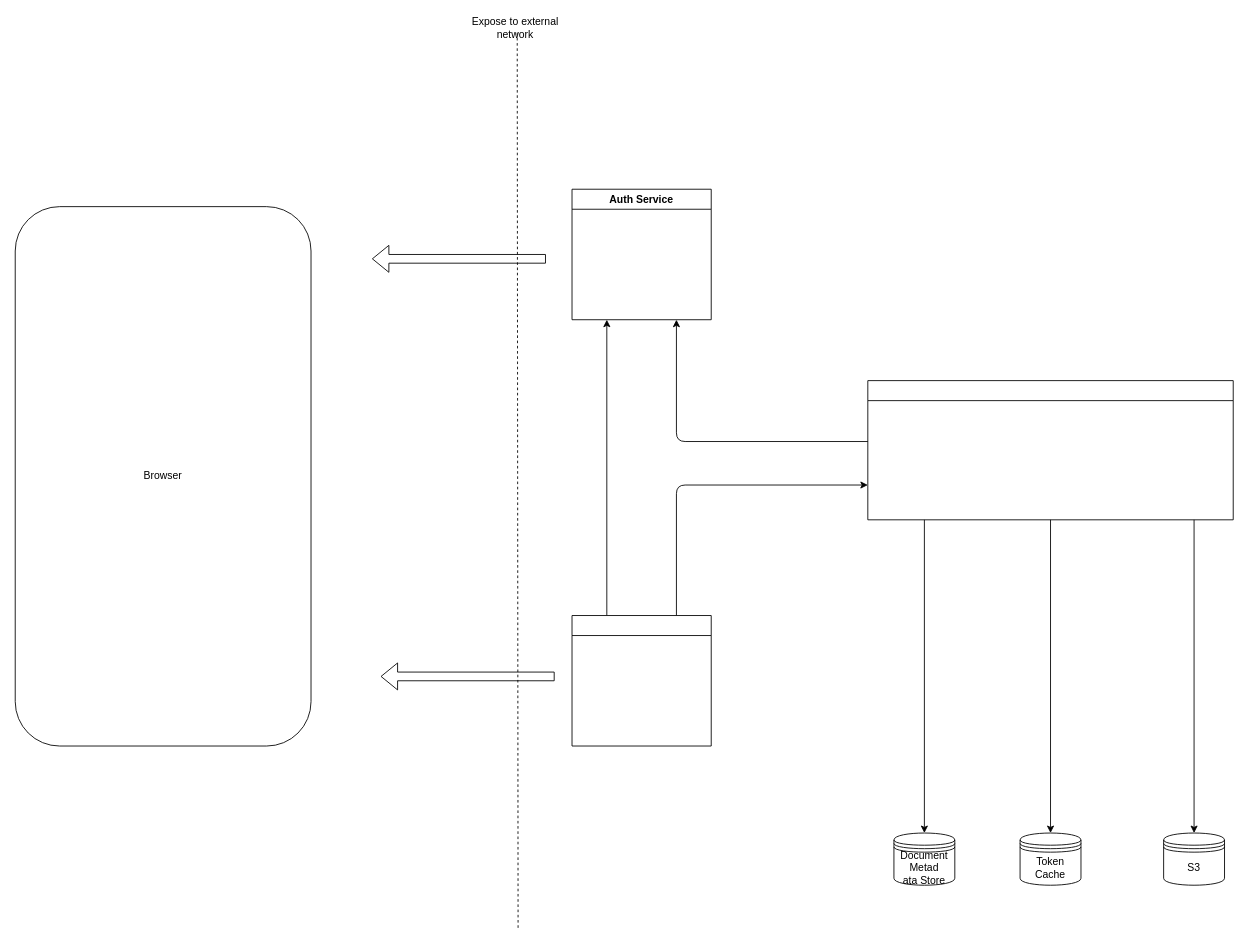
Image size: 1248x944. Some labels were removed from this diagram. The shapes that lost their labels are listed below. From the top down, each one's centre as x and y in pixels, then its label:
At (1050,450): "Document Service".
At (641,680): "UI".
